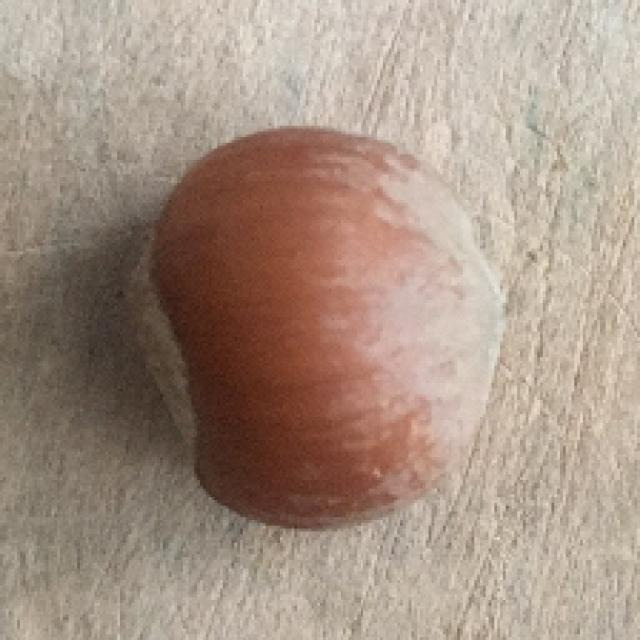qualityHazelnut: (128, 123, 512, 540)
